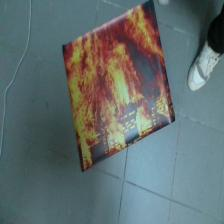fire-poster: (63, 2, 175, 171)
